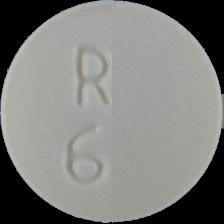68788-9308: (0, 0, 224, 224)
